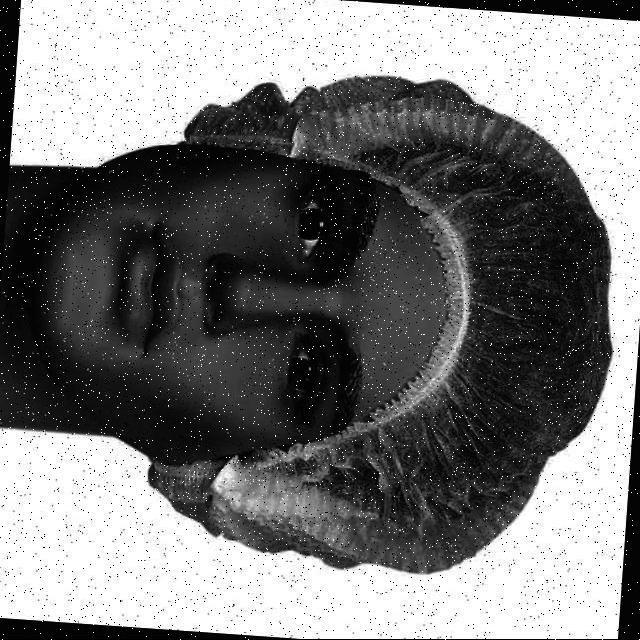gloves: (346, 70, 608, 558)
no_hairnet: (32, 118, 244, 458)
